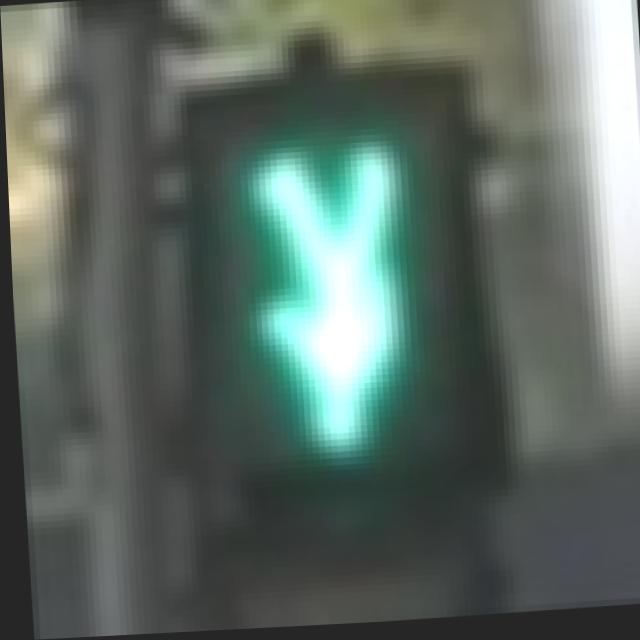green_light: (166, 78, 471, 525)
